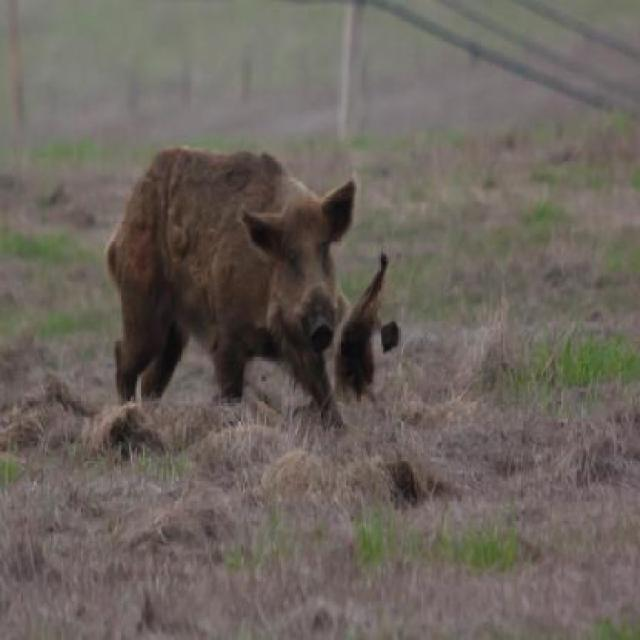pig: (104, 146, 358, 439)
